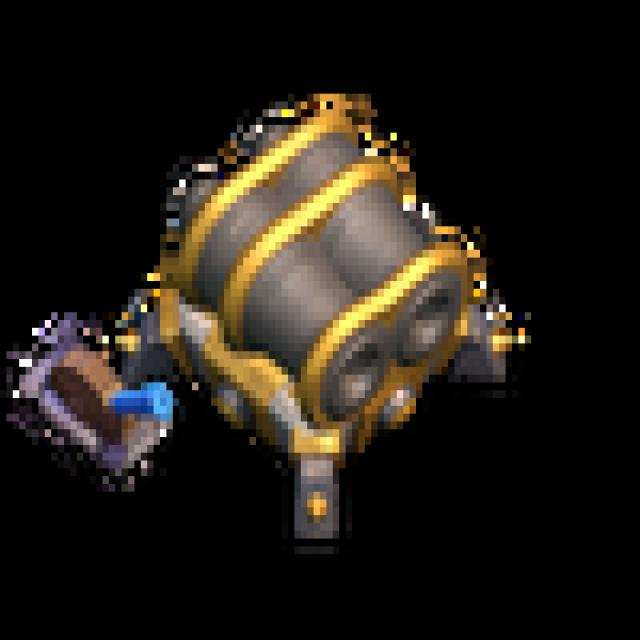cannon: (4, 34, 565, 593)
